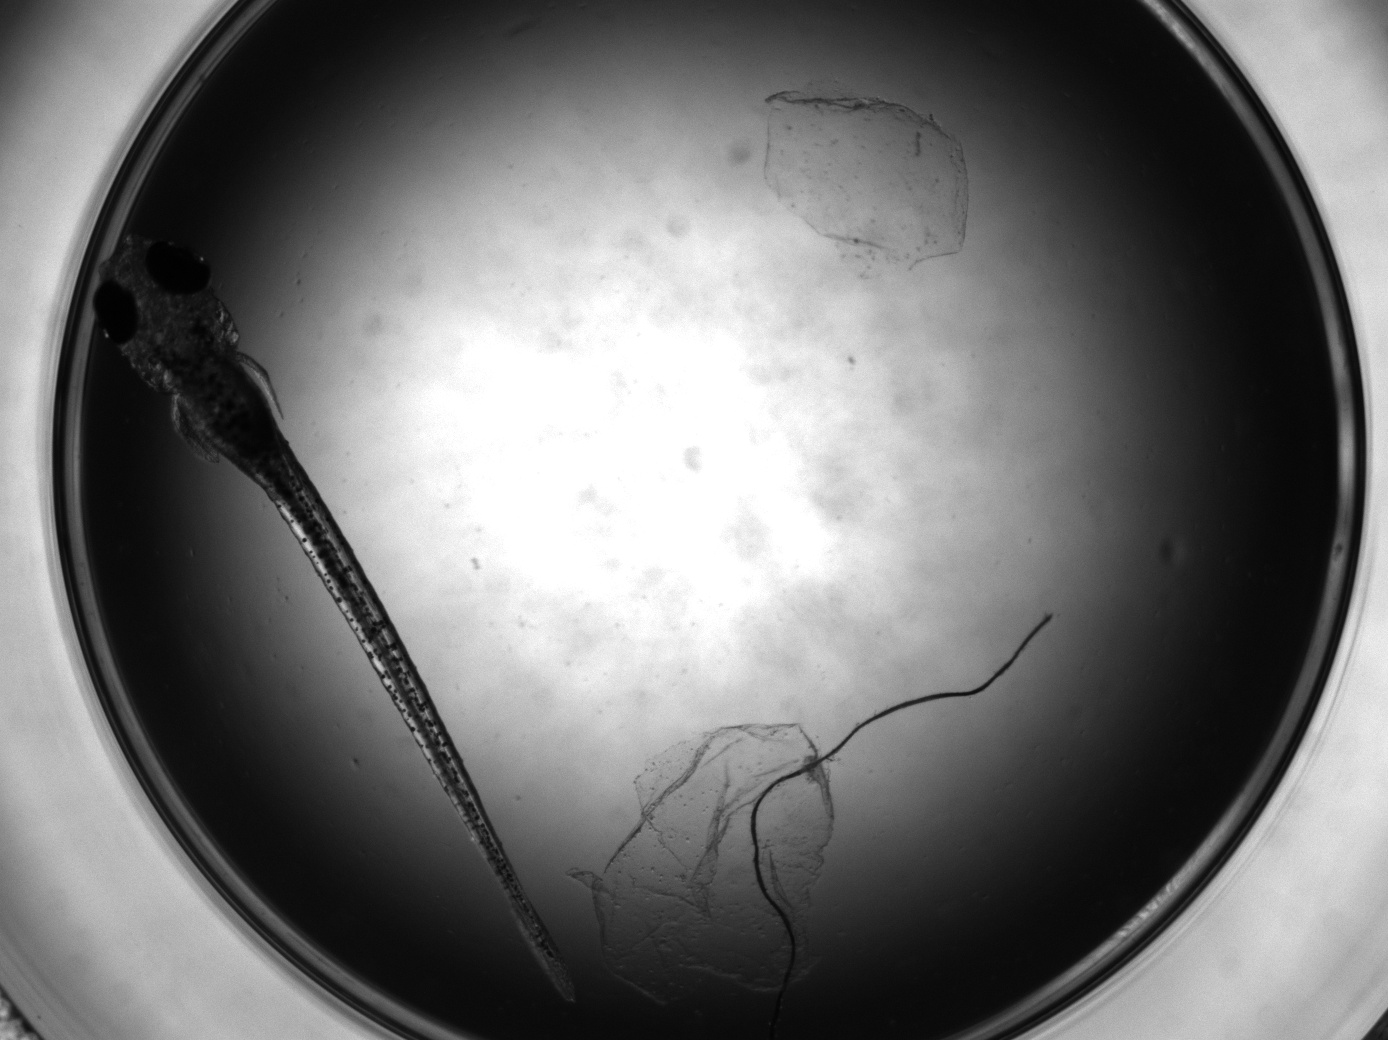debris: (568, 723, 837, 1006)
embryo: (92, 234, 576, 1002)
eye: (139, 235, 211, 295), (93, 279, 140, 345)
yolksac: (760, 82, 969, 268)
